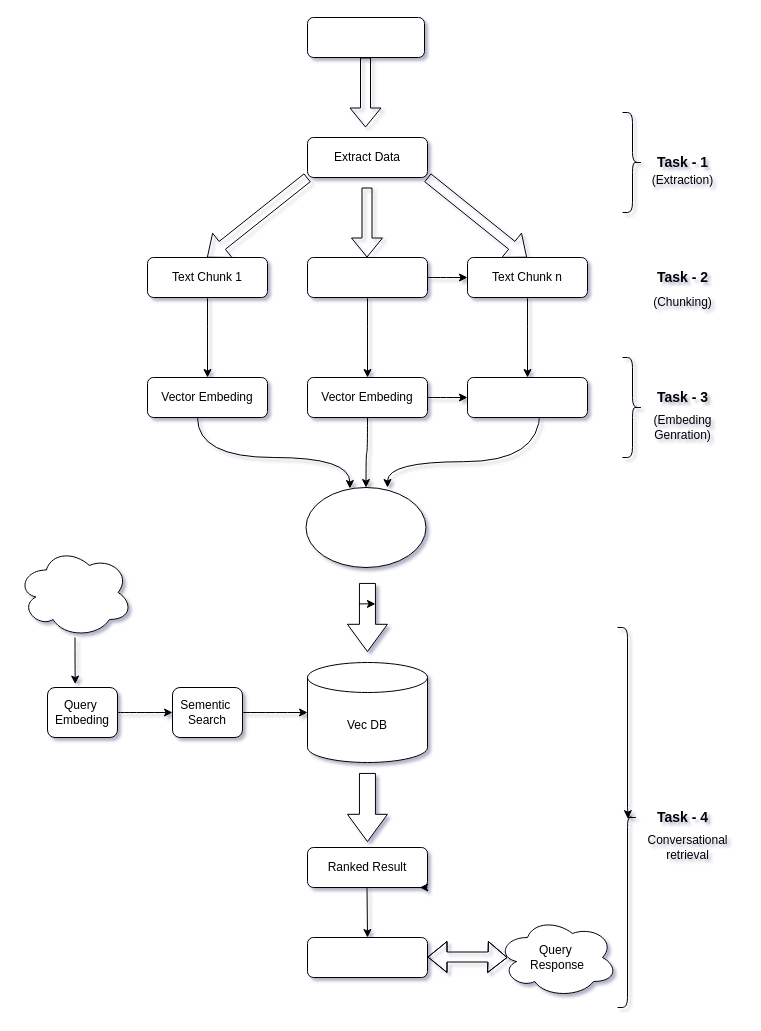
This 761x1031 diagram has some shape labels left out. The shapes that lost their labels are listed below. From the top down, each one's centre as x and y in pixels, then its label:
At (x=365, y=37): "PDF Files".
At (x=367, y=277): "Text Chunk 2".
At (x=365, y=527): "Build Semantic Index".
At (x=74, y=592): "Query".
At (x=367, y=957): "LLM (PALM2)".
